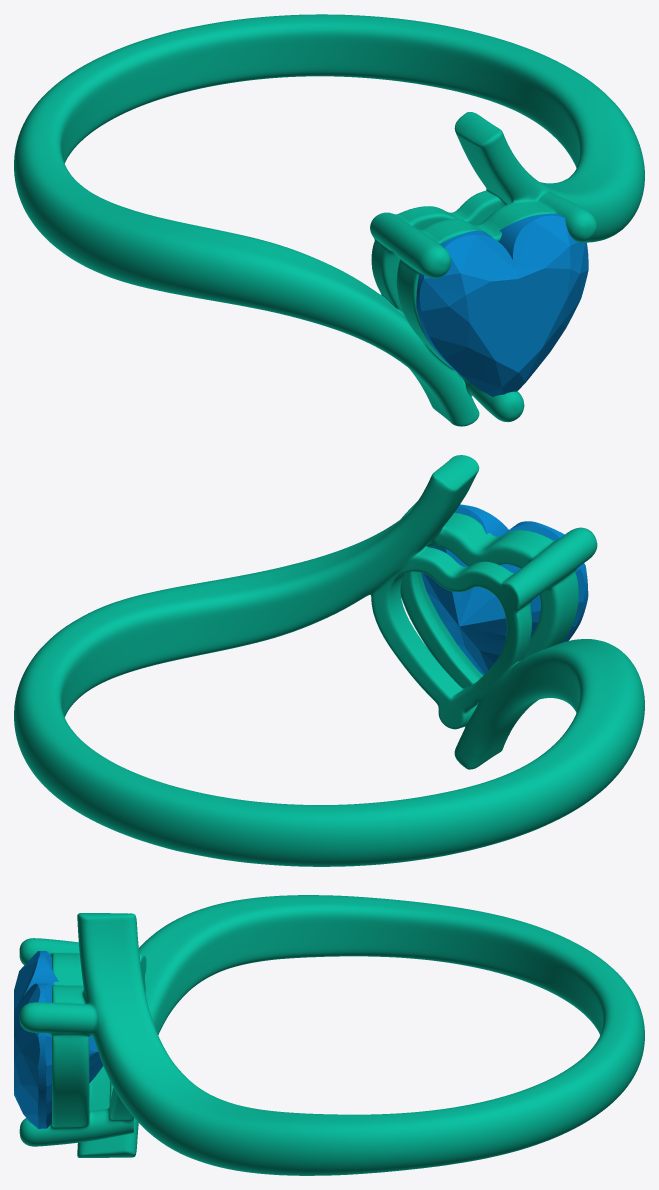
3 renders of one model, top to bottom at view 1: azimuth 30°, elevation 25°; view 2: azimuth 150°, elevation 25°; view 3: azimuth 270°, elevation 25°, orthographic. The views are drawn at different scales.
Visible parts, largest first — view 1: FOR RENDER.3dm, Diamond_Heart; view 2: FOR RENDER.3dm, Diamond_Heart; view 3: FOR RENDER.3dm, Diamond_Heart.
Boxes of the visible parts, x1,y1,x2,y2 form: FOR RENDER.3dm: [14, 14, 644, 426]; Diamond_Heart: [416, 213, 588, 396]; FOR RENDER.3dm: [14, 455, 644, 866]; Diamond_Heart: [421, 504, 588, 675]; FOR RENDER.3dm: [19, 895, 644, 1175]; Diamond_Heart: [14, 951, 103, 1128].
Size of the model in its own units: 2.54 by 1.27 by 2.82.
